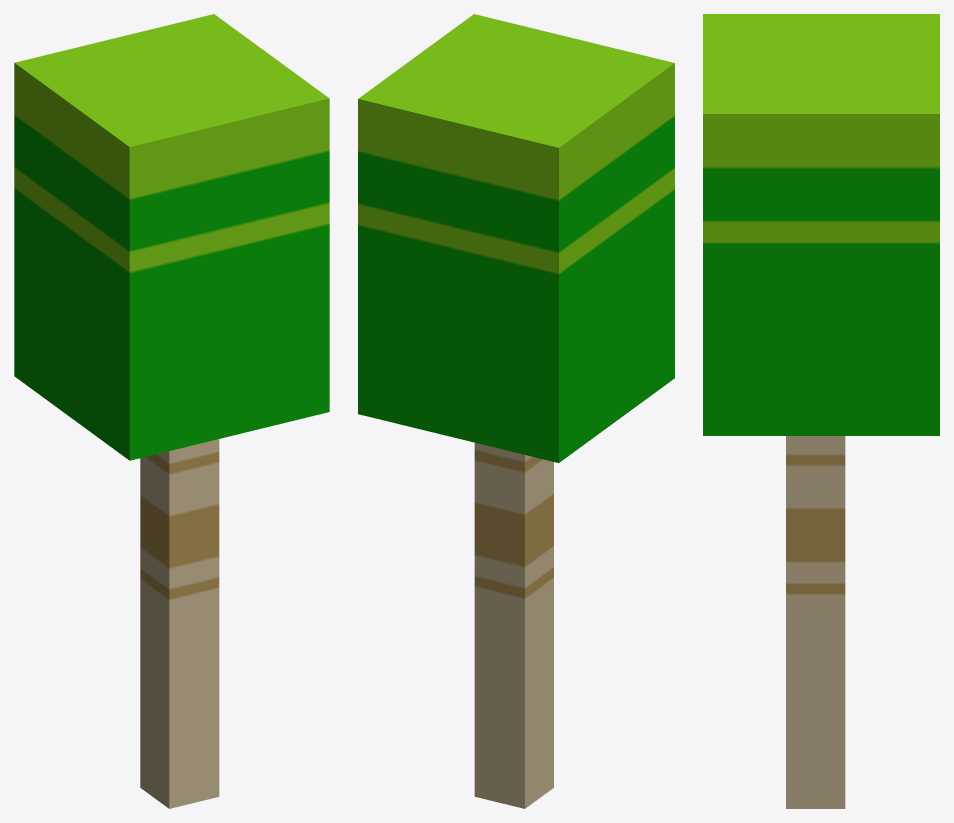
Rendered from Tree2_Map2.fbx.
3 renders of one model, left to right at view 1: azimuth 30°, elevation 25°; view 2: azimuth 150°, elevation 25°; view 3: azimuth 270°, elevation 25°, orthographic. The views are drawn at different scales.
Visible parts, largest first — view 1: Union; view 2: Union; view 3: Union.
Boxes of the visible parts, x1,y1,x2,y2 form: Union: [14, 14, 329, 808]; Union: [358, 14, 674, 808]; Union: [703, 14, 939, 808].
Bounding box in the file's own units: 20 × 68 × 20.
